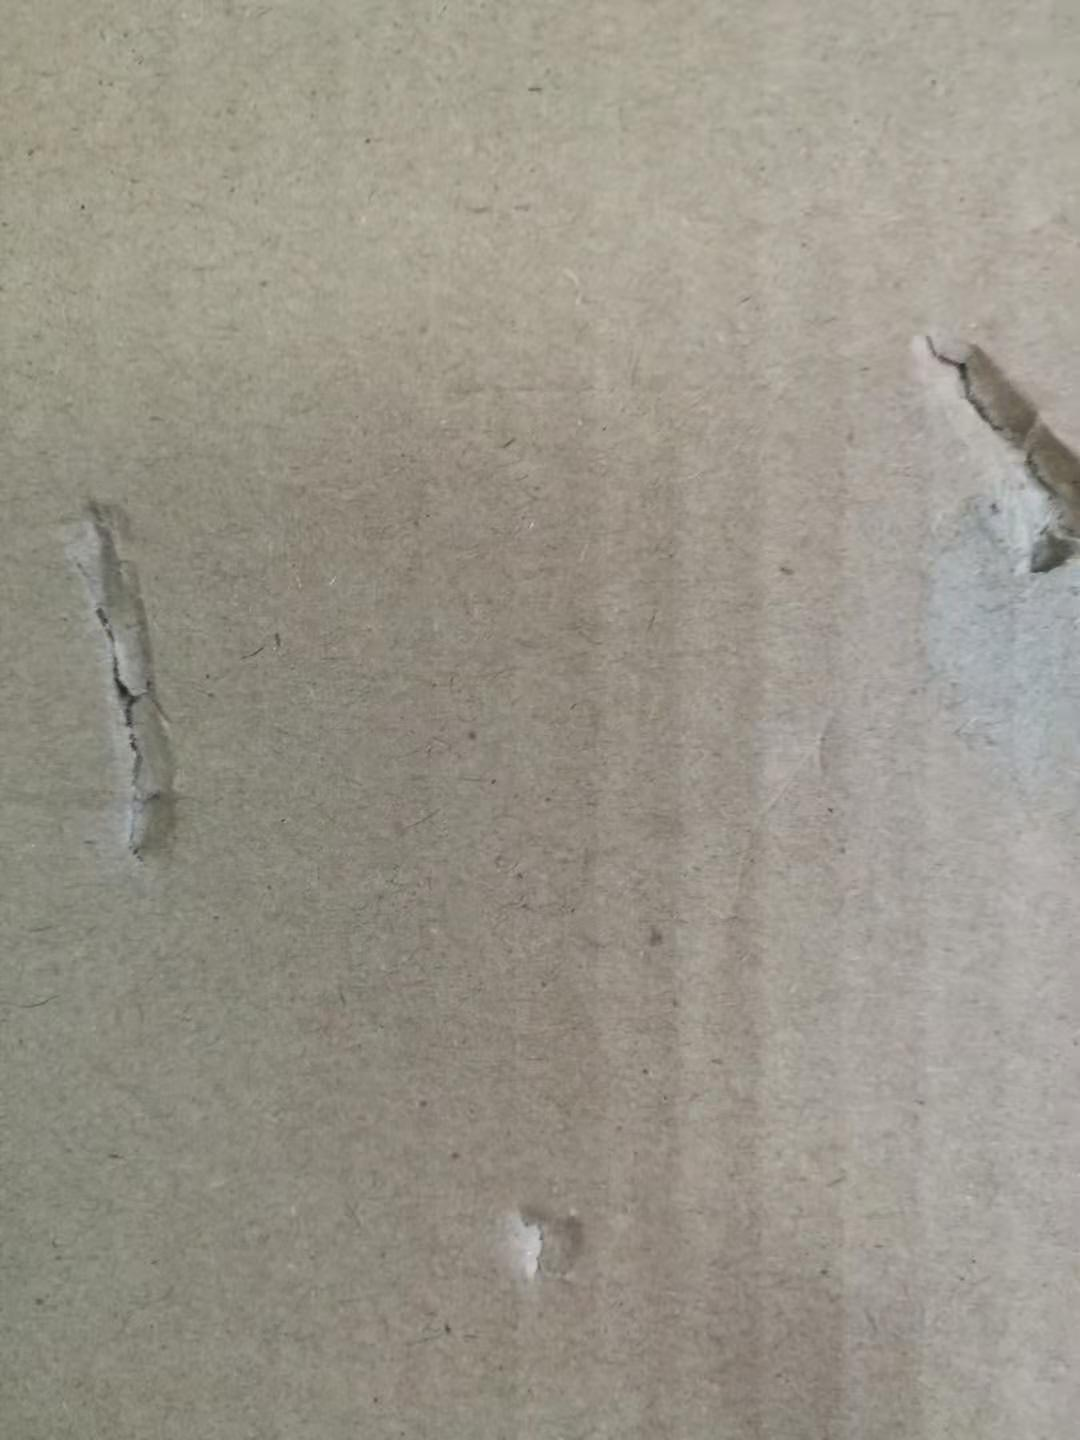defect: (1, 448, 262, 904), (871, 293, 1080, 840), (492, 1172, 609, 1312)
